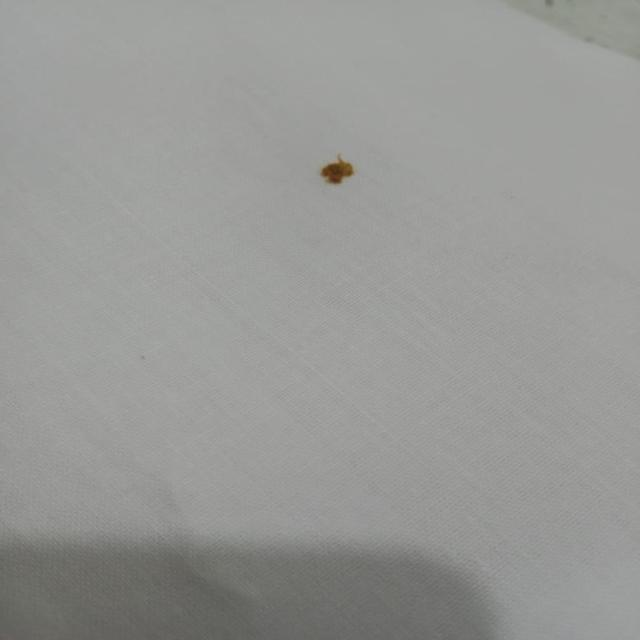stain: (315, 153, 364, 193)
